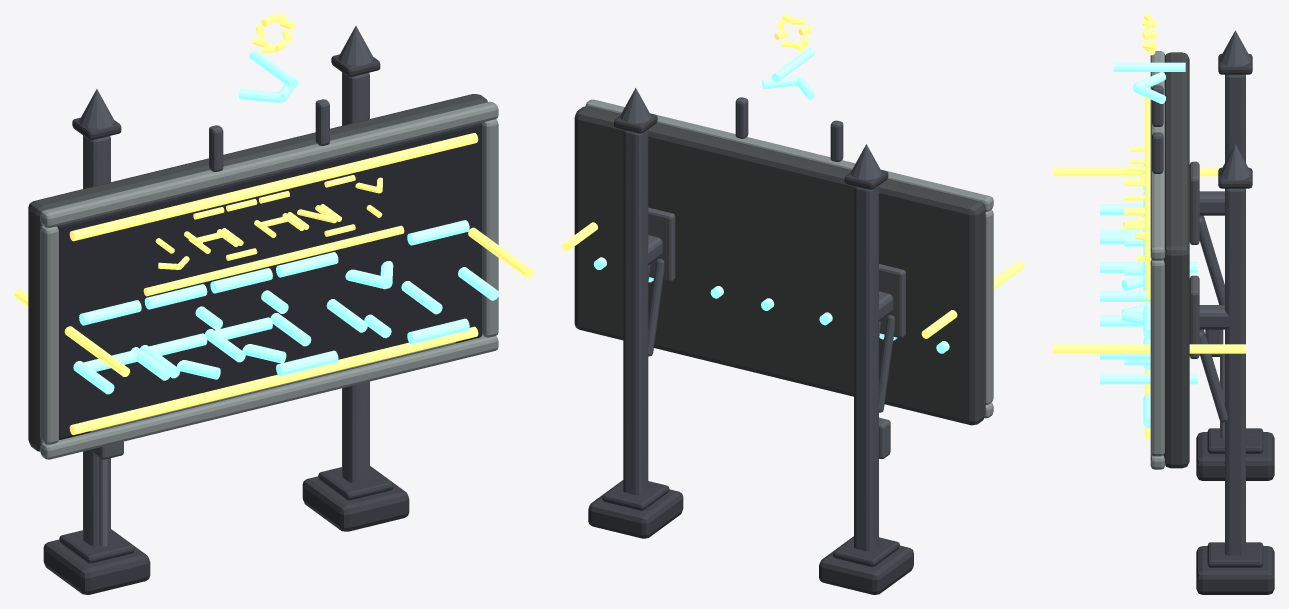
Rendered from sign_motel.glb.
3 renders of one model, left to right at view 1: azimuth 30°, elevation 25°; view 2: azimuth 150°, elevation 25°; view 3: azimuth 270°, elevation 25°, orthographic. The views are drawn at different scales.
Visible parts, largest first — view 1: sign_motel_face, sign_motel_rail_top, sign_motel_plate, sign_motel_rail_bottom, sign_motel_border_s2, sign_motel_border_s0, sign_motel_rail_l, sign_motel_mast_1, sign_motel_foot_1, sign_motel_foot_0, sign_motel_mast_0, sign_motel_rail_r (+20 smaller); view 2: sign_motel_plate, sign_motel_mast_1, sign_motel_mast_0, sign_motel_rail_top, sign_motel_foot_1, sign_motel_foot_0, sign_motel_rail_l, sign_motel_stiffener_1, sign_motel_stiffener_0, sign_motel_footplate_1, sign_motel_footplate_0, sign_motel_brace_1a (+4 smaller); view 3: sign_motel_plate, sign_motel_mast_1, sign_motel_rail_r, sign_motel_foot_1, sign_motel_foot_0, sign_motel_rail_top, sign_motel_mast_0, sign_motel_border_s1, sign_motel_footplate_1, sign_motel_border_s3, sign_motel_border_s2, sign_motel_stiffener_0 (+22 smaller).
Part boxes in pixels (x1,y1,x2,y2): sign_motel_face: [57, 122, 481, 439]; sign_motel_rail_top: [40, 101, 498, 227]; sign_motel_plate: [28, 94, 487, 451]; sign_motel_rail_bottom: [40, 335, 498, 459]; sign_motel_border_s2: [69, 133, 478, 241]; sign_motel_border_s0: [69, 326, 478, 434]; sign_motel_rail_l: [40, 225, 58, 444]; sign_motel_mast_1: [342, 72, 369, 482]; sign_motel_foot_1: [302, 466, 409, 531]; sign_motel_foot_0: [43, 529, 150, 594]; sign_motel_mast_0: [83, 135, 110, 546]; sign_motel_rail_r: [481, 119, 498, 337]; sign_motel_plate: [574, 106, 985, 425]; sign_motel_mast_1: [623, 129, 648, 495]; sign_motel_mast_0: [854, 186, 878, 551]; sign_motel_rail_top: [585, 99, 993, 211]; sign_motel_foot_1: [588, 480, 683, 538]; sign_motel_foot_0: [819, 536, 913, 594]; sign_motel_rail_l: [985, 210, 993, 404]; sign_motel_stiffener_1: [648, 207, 675, 281]; sign_motel_stiffener_0: [879, 264, 905, 338]; sign_motel_footplate_1: [602, 480, 669, 510]; sign_motel_footplate_0: [833, 537, 899, 566]; sign_motel_brace_1a: [648, 258, 664, 356]; sign_motel_plate: [1163, 52, 1189, 468]; sign_motel_mast_1: [1225, 188, 1245, 555]; sign_motel_rail_r: [1150, 259, 1164, 456]; sign_motel_foot_1: [1196, 546, 1274, 594]; sign_motel_foot_0: [1196, 432, 1274, 480]; sign_motel_rail_top: [1150, 51, 1165, 260]; sign_motel_mast_0: [1225, 74, 1245, 162]; sign_motel_border_s1: [1053, 344, 1245, 353]; sign_motel_footplate_1: [1207, 542, 1263, 567]; sign_motel_border_s3: [1053, 167, 1222, 176]; sign_motel_border_s2: [1145, 87, 1151, 265]; sign_motel_stiffener_0: [1189, 161, 1199, 244].
Size of the model in its own units: 2.89 by 3.42 by 1.35.
Materials: 72 (3 with a texture image).
